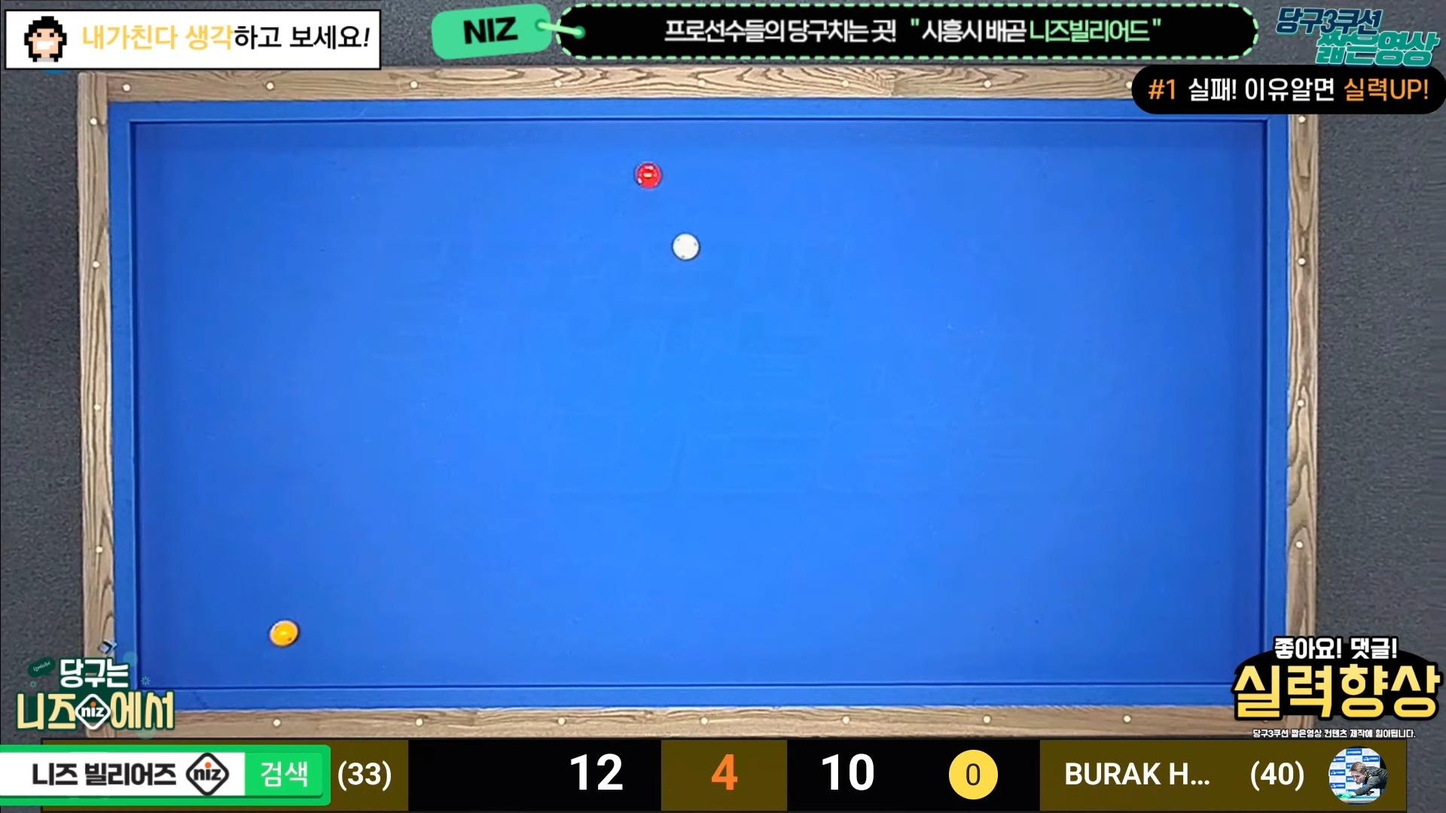Red: (634, 164, 667, 191)
White: (673, 232, 705, 261)
Yellow: (270, 620, 304, 648)
